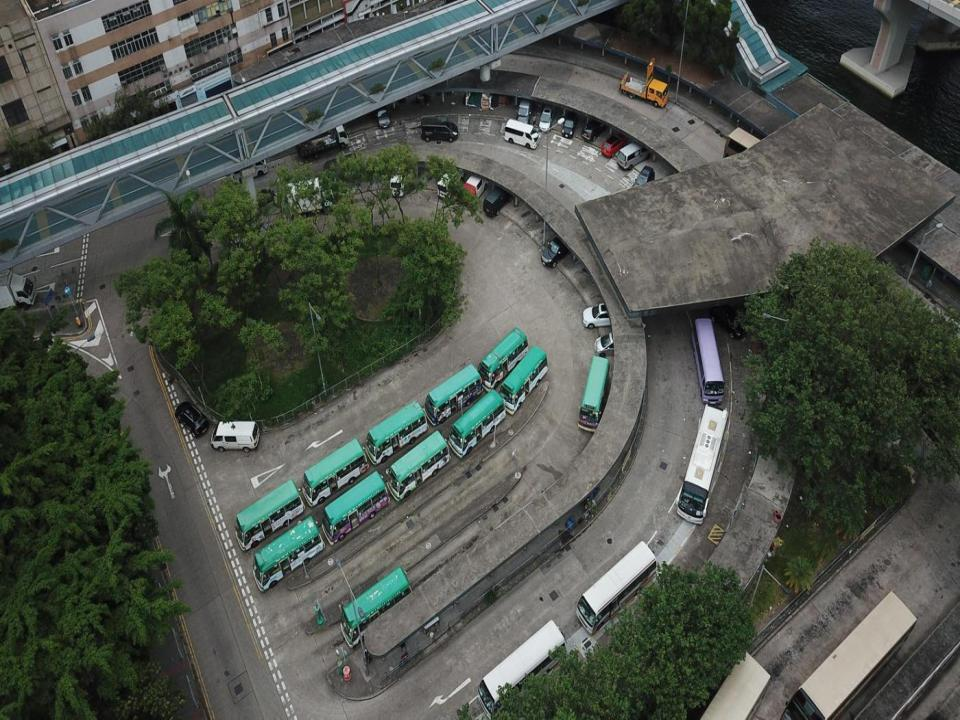bus: (783, 588, 924, 714), (476, 617, 565, 719), (576, 540, 658, 633), (676, 402, 732, 525), (338, 566, 415, 650), (252, 515, 326, 593), (691, 649, 770, 719), (232, 479, 306, 552), (322, 470, 391, 546), (302, 435, 369, 509), (687, 316, 738, 406), (388, 432, 450, 504), (448, 386, 503, 461), (365, 400, 428, 465), (501, 342, 550, 416), (424, 366, 483, 426), (479, 325, 530, 391), (575, 354, 612, 434)
car: (710, 303, 748, 342), (174, 399, 210, 438), (581, 301, 631, 329), (539, 232, 575, 269), (481, 184, 512, 216), (629, 164, 655, 201), (581, 114, 607, 145), (593, 332, 629, 351), (600, 132, 625, 158), (514, 97, 533, 122), (560, 111, 576, 140), (374, 106, 392, 130), (538, 106, 553, 132)
truck: (617, 57, 668, 106), (286, 176, 348, 211), (295, 125, 352, 160), (1, 266, 40, 309), (460, 166, 488, 209), (434, 165, 464, 200), (388, 164, 406, 199)
van: (212, 415, 260, 457), (502, 116, 540, 153), (617, 133, 652, 170), (420, 114, 458, 144), (227, 156, 269, 183)
